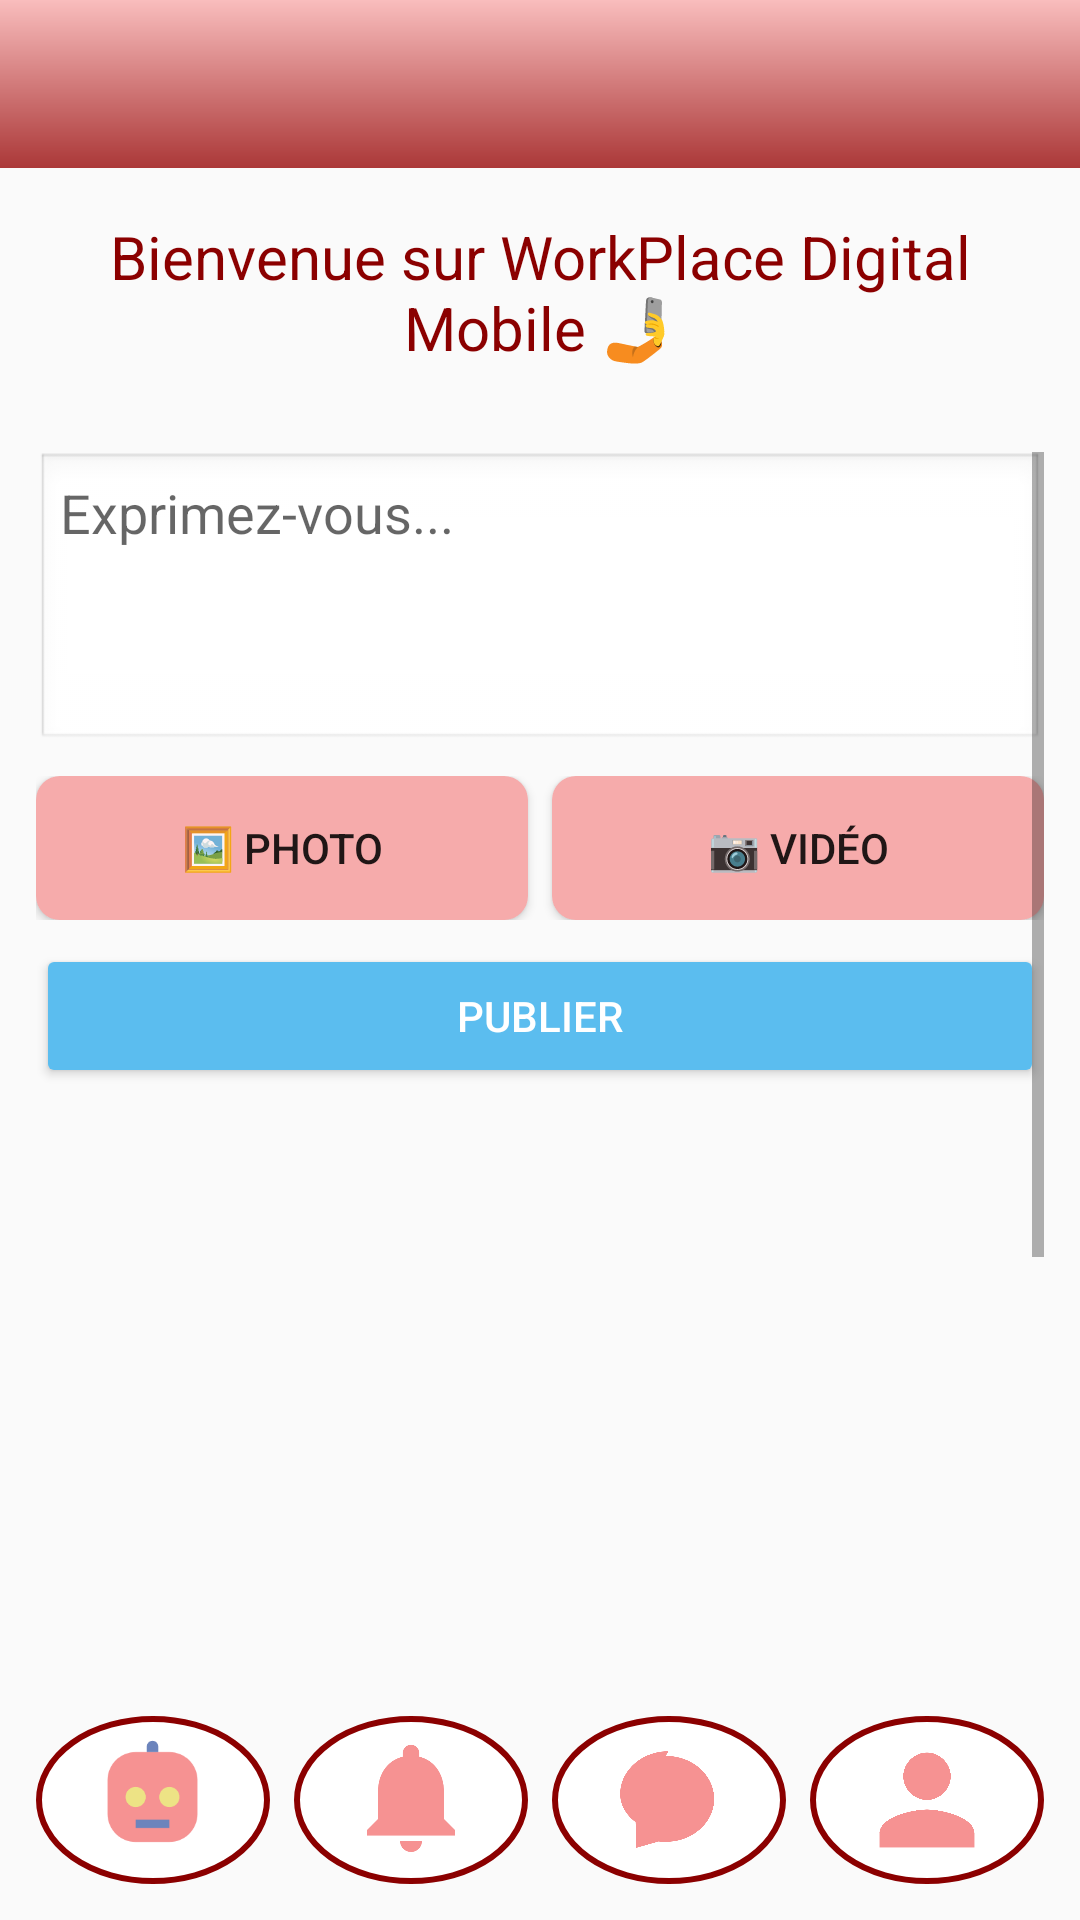

Point at icon controls on the screen. Image size 1080*1920, points as point (x, y).
Chat: point (667, 1799)
Notification: point (411, 1798)
Profil: point (927, 1800)
